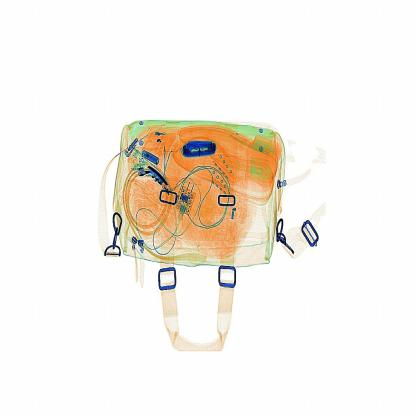scissors: (180, 138, 223, 163)
